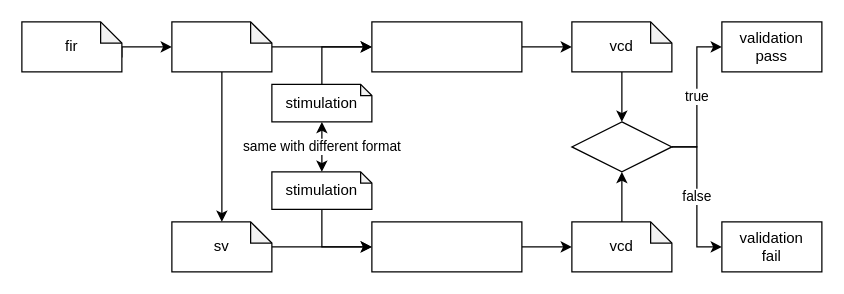
The diagram is 844 pixels wide and 294 high, and some of its shapes have lost their labels. The shapes that lost their labels are listed below. From the top down, each one's box as (x1, y1, x2, y2) in pixels, then its label:
(171, 21, 272, 72): hw
(371, 21, 522, 72): K-CIRCT simulator
(571, 121, 672, 172): same
(371, 221, 522, 272): verilator
